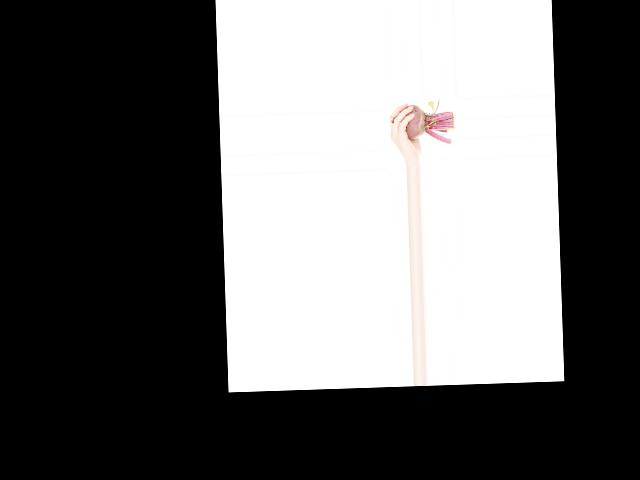beet: (390, 98, 455, 146)
